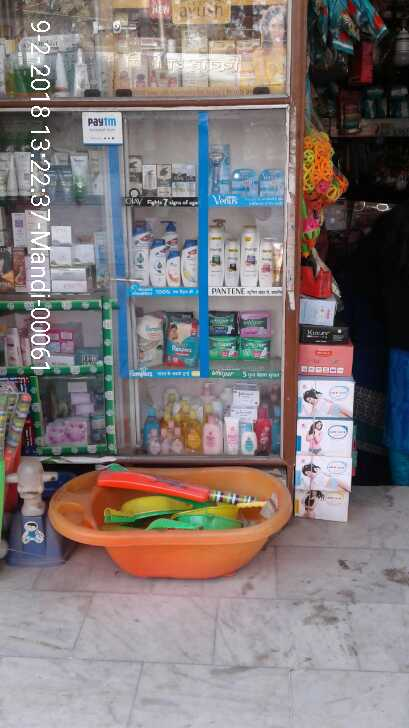venus: (211, 142, 233, 197), (232, 170, 259, 197), (259, 170, 284, 198)
